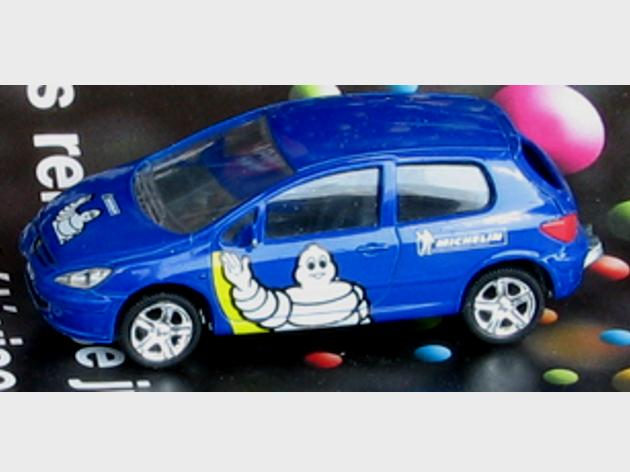toy-car: (14, 91, 604, 371)
